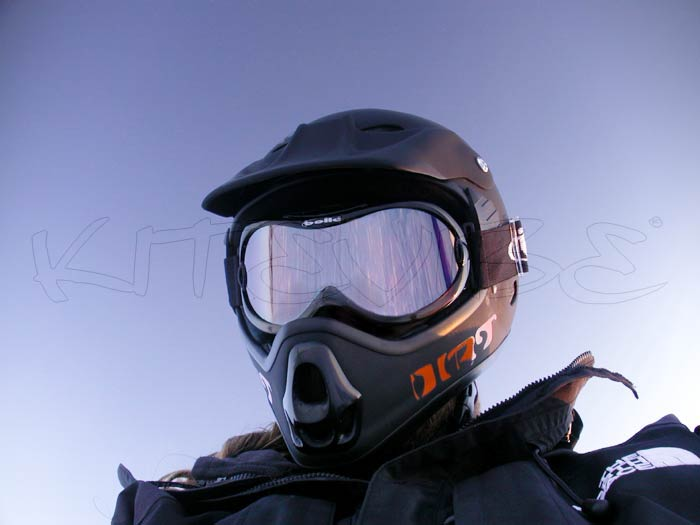helmet: (174, 95, 553, 470)
